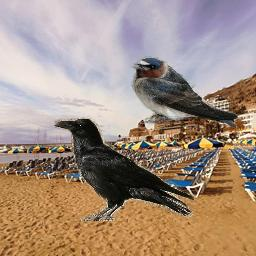Crow: (54, 118, 194, 221)
Swallow: (129, 56, 240, 129)
